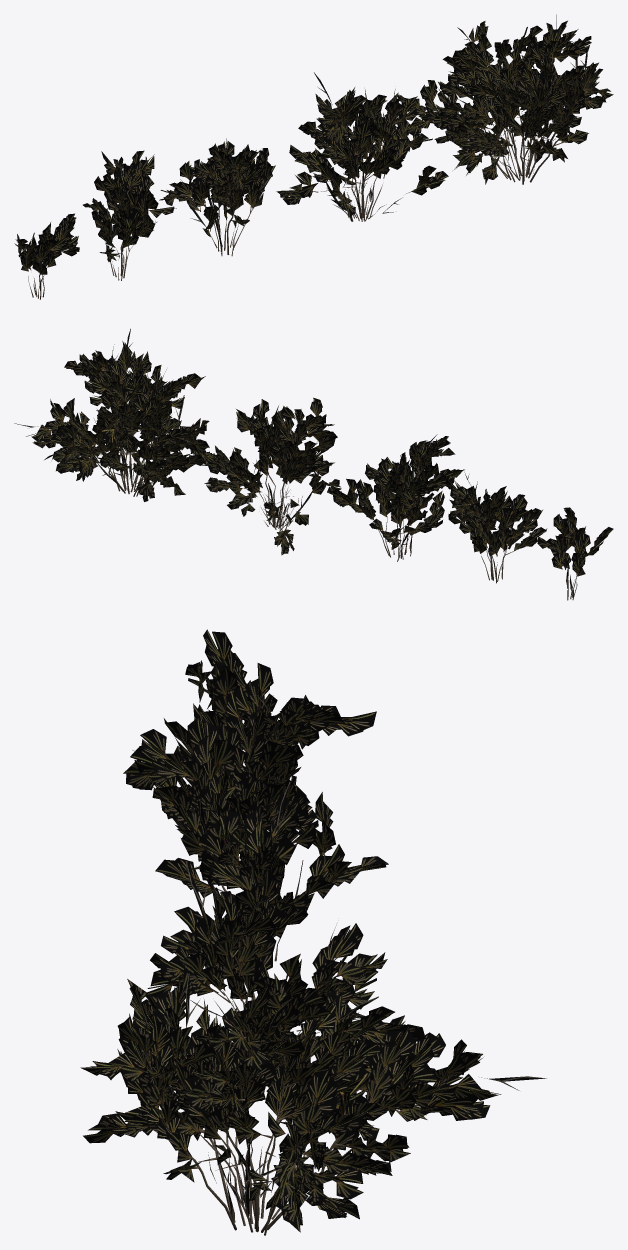
The model's file is wild_rooibos_bush_1k.glb.
3 views of the same model, one above another, from view 1: azimuth 30°, elevation 25°; view 2: azimuth 150°, elevation 25°; view 3: azimuth 270°, elevation 25° (orthographic). The views are drawn at different scales.
Visible parts, largest first — view 1: wild_rooibos_bush_a; view 2: wild_rooibos_bush_a; view 3: wild_rooibos_bush_a.
Part boxes in pixels (x1,y1,x2,y2): wild_rooibos_bush_a: (14, 14, 613, 299); wild_rooibos_bush_a: (14, 328, 613, 600); wild_rooibos_bush_a: (80, 629, 546, 1235).
Size of the model in its own units: 2.27 by 0.5329 by 0.8286.
Materials: 2 (2 with a texture image).
